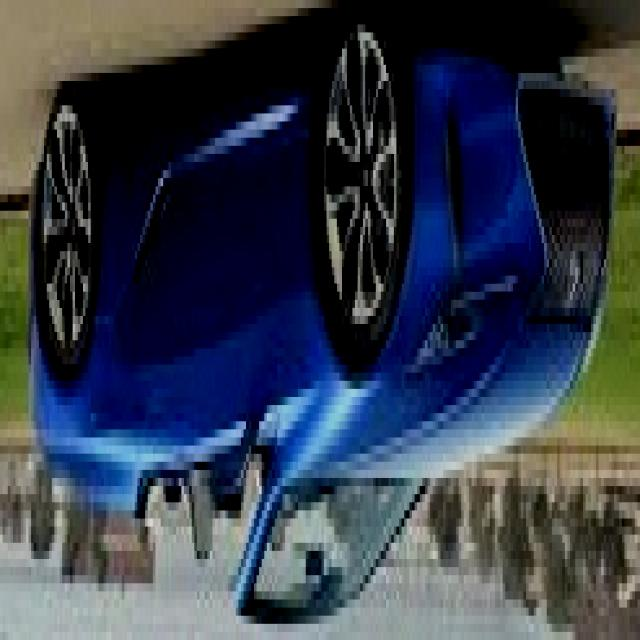blue: (22, 12, 618, 624)
